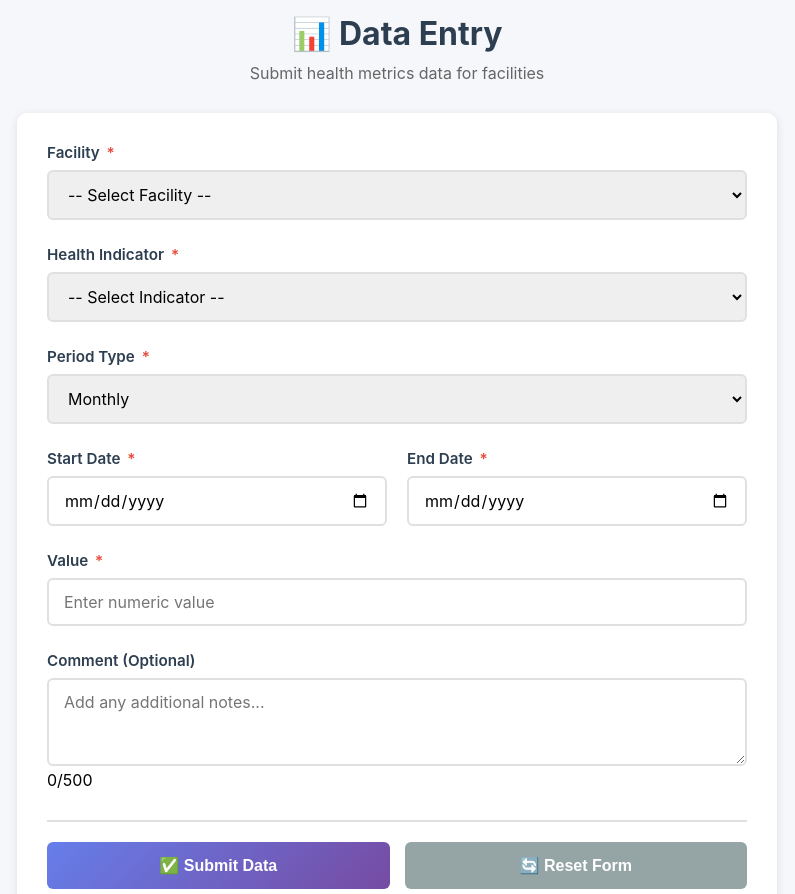
DataEntryForm Component › shows success message after successful submission
# Fill in required fields
Select "FAC001 - Athens General Hospital" in the dropdown labelled "Facility *". click: (397, 195)
box: 47,170 -> 747,220
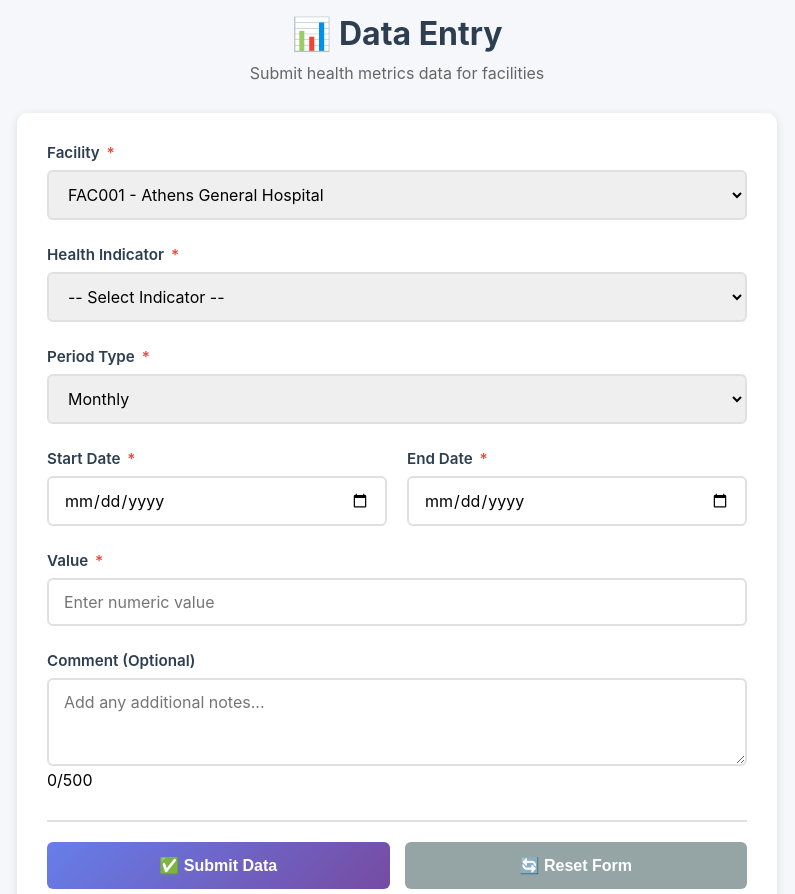
Select "Malaria Cases (cases)" in the dropdown labelled "Health Indicator *". click: (397, 297)
box: 47,272 -> 747,322
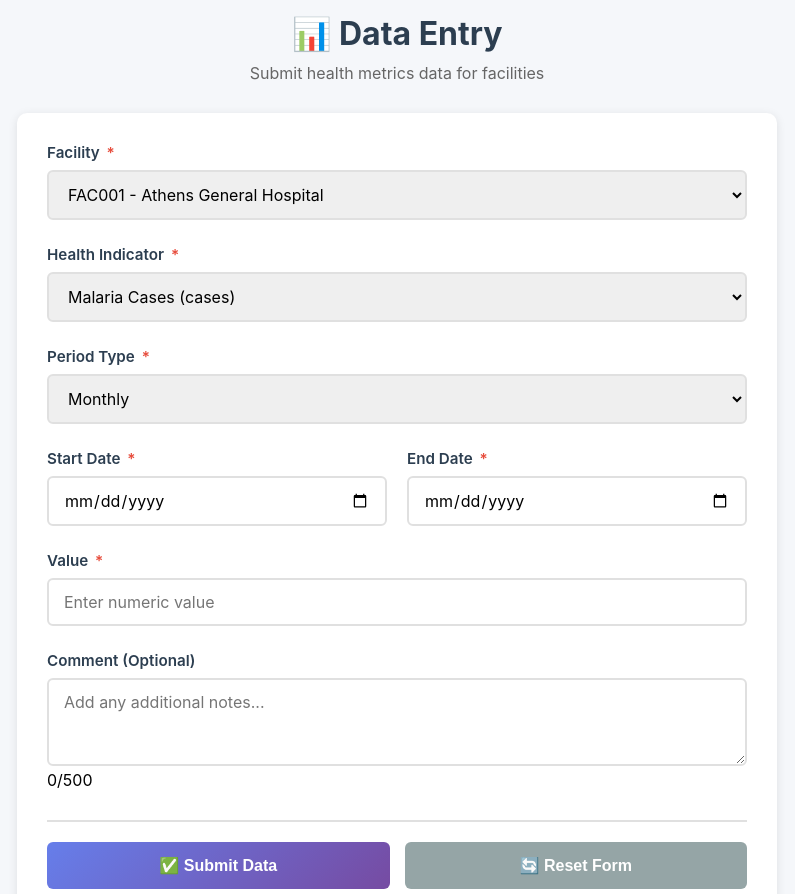
Type "2026-01-01" into the date field labelled "Start Date *". click: (217, 501)
box: 47,476 -> 387,526
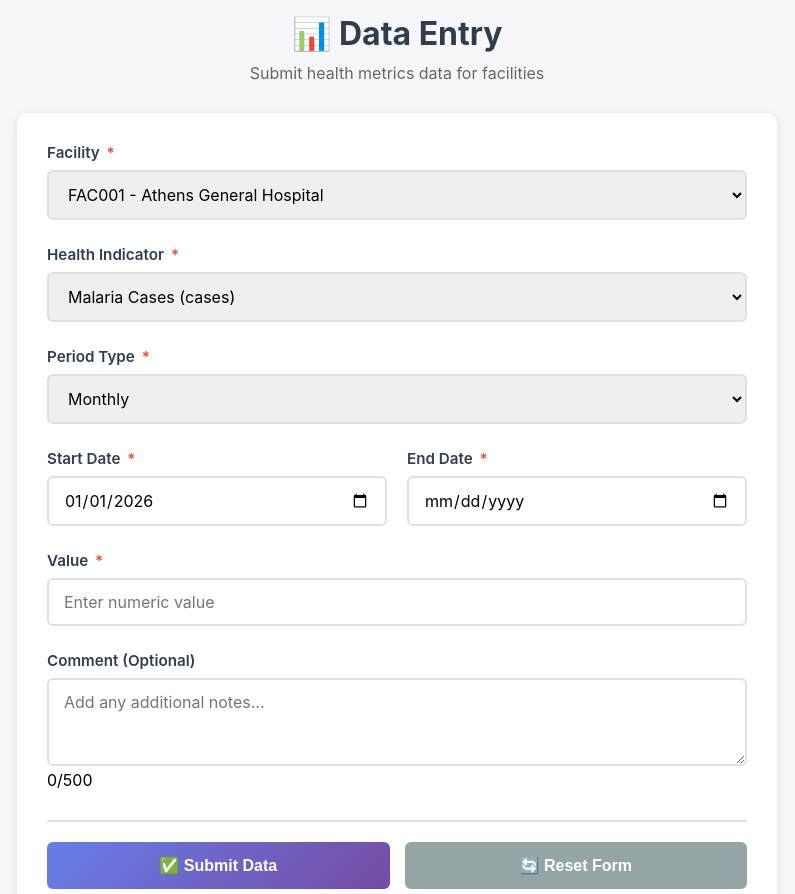
Type "2026-01-31" into the date field labelled "End Date *". click: (577, 501)
box: 407,476 -> 747,526
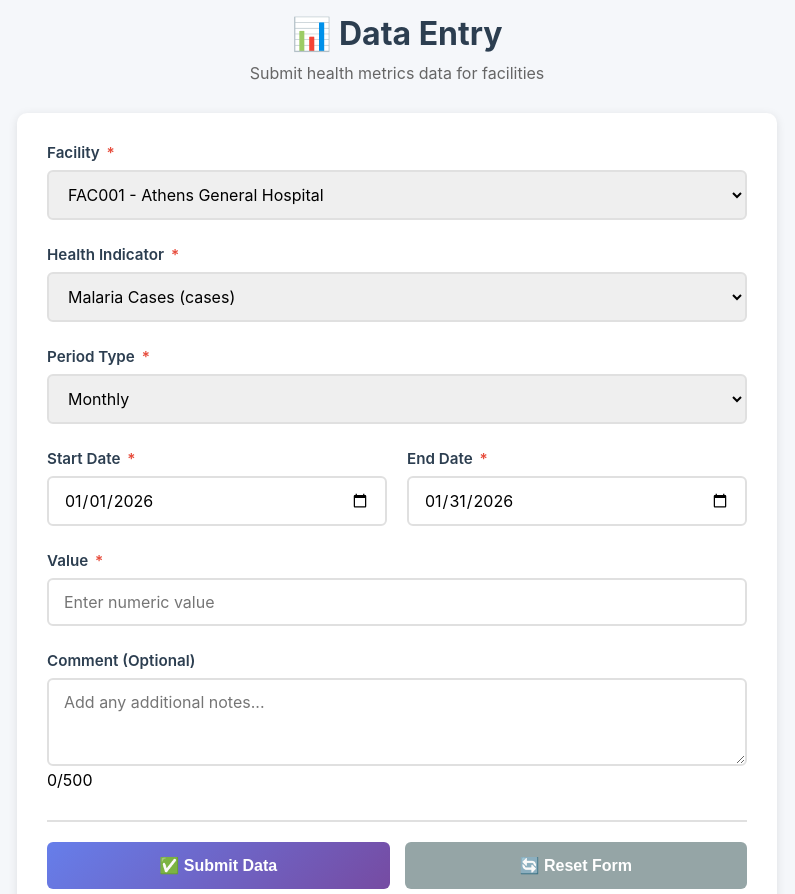
Type "150" into the number field labelled "Value *". click: (397, 602)
box: 47,578 -> 747,626
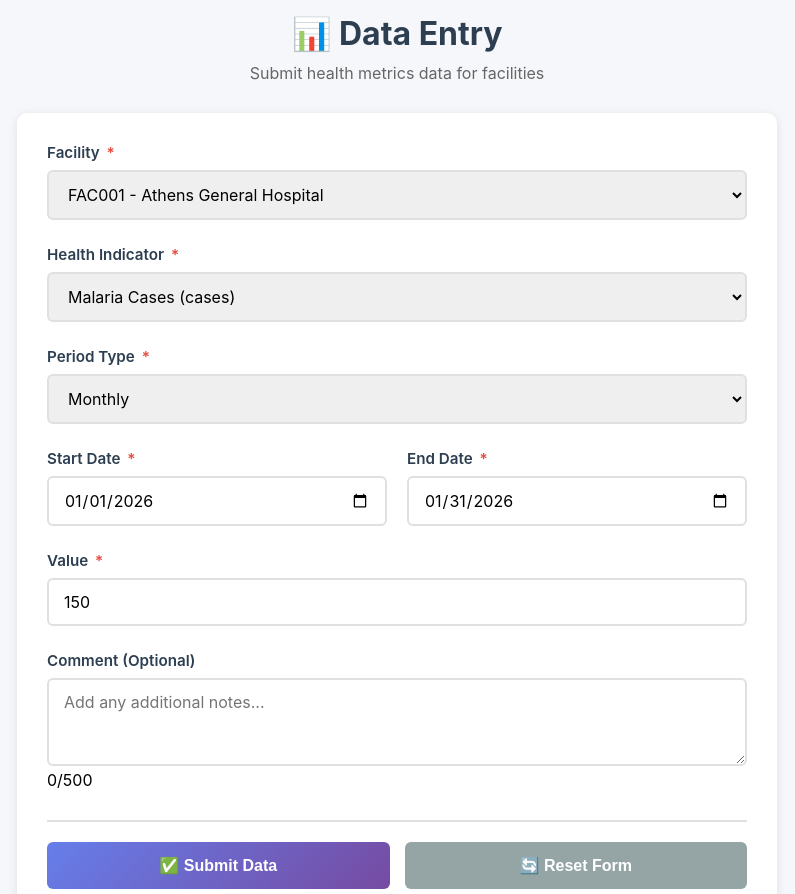
Click the button "✅ Submit Data". click: (218, 866)
box: 47,842 -> 390,889
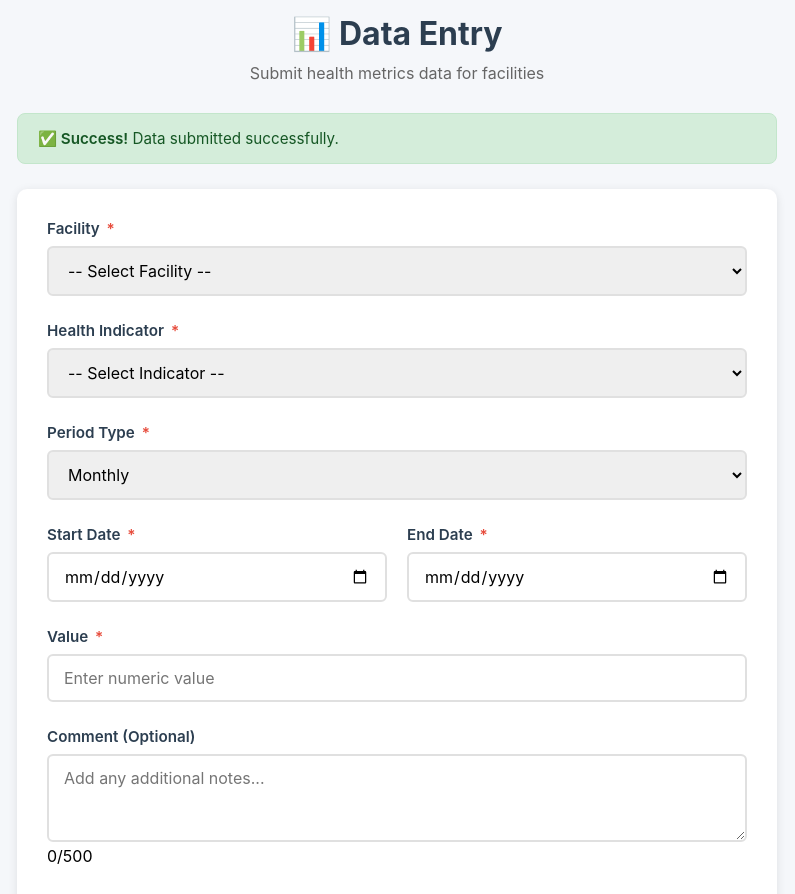
Expected: the text "✅ Success! Data submitted successfully." is shown, 17,113 -> 777,164
